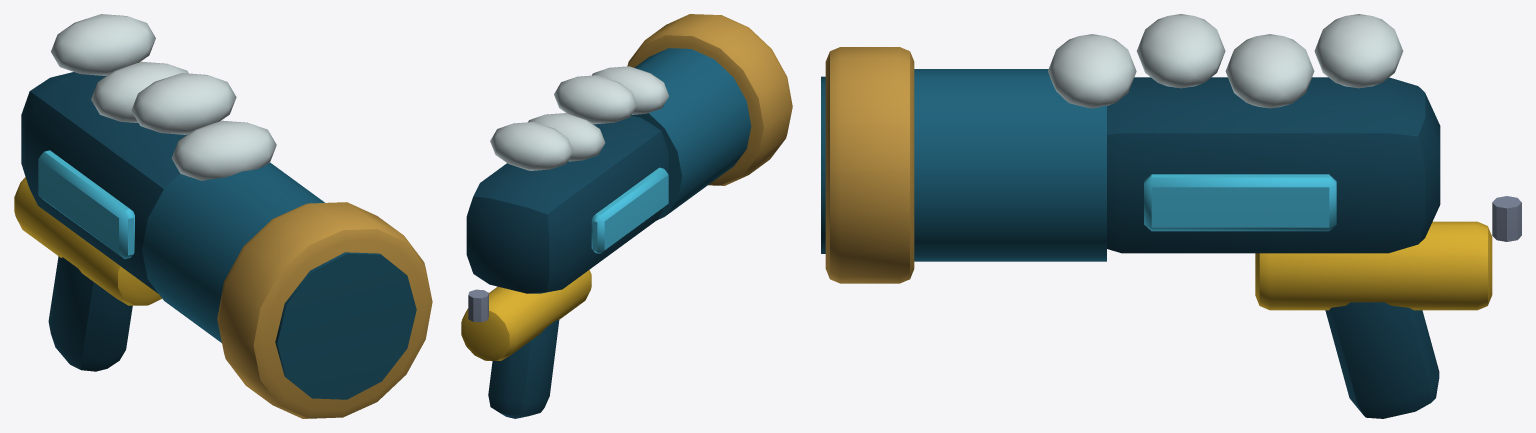
The model's file is w_n_tsunami.glb.
3 views of the same model, side by side, from view 1: azimuth 30°, elevation 25°; view 2: azimuth 150°, elevation 25°; view 3: azimuth 270°, elevation 25° (orthographic). The views are drawn at different scales.
Parts seen in each view (by area): view 1: body; view 2: body; view 3: body.
Boxes of the visible parts, x1,y1,x2,y2 form: body: (14, 14, 432, 418); body: (461, 14, 792, 418); body: (821, 14, 1521, 418).
Bounding box in the file's own units: 0.32 × 0.5834 × 0.946.
